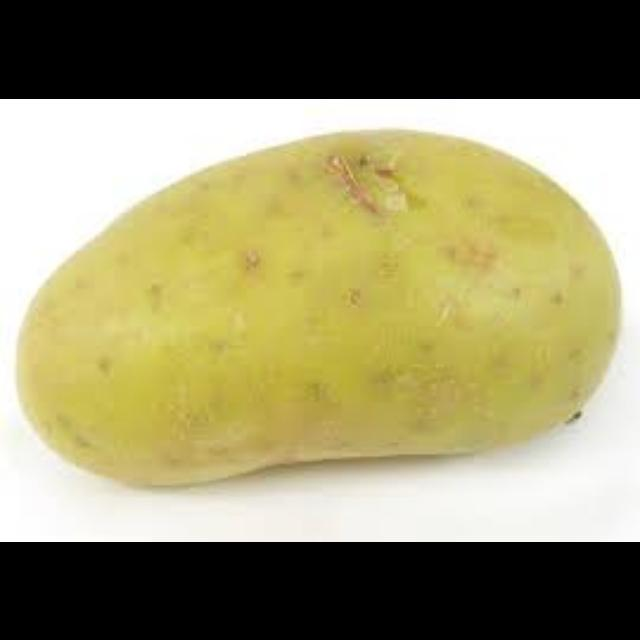Defected potato: (0, 120, 628, 488)
